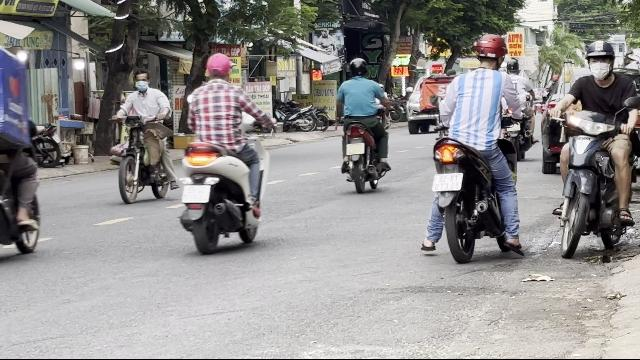helmet: (584, 40, 616, 80), (471, 34, 507, 68), (348, 57, 368, 77)
licenseplate: (433, 173, 463, 191), (182, 184, 208, 202), (348, 143, 364, 155)
motorcyclist: (422, 34, 526, 262), (546, 38, 638, 256), (176, 52, 268, 252), (108, 70, 176, 204), (333, 56, 392, 192)
nohelmet: (204, 52, 232, 82), (133, 72, 149, 92)
